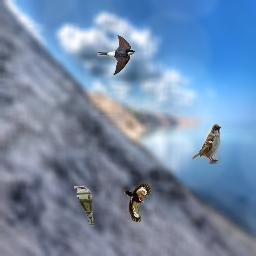Cuckoo: (74, 186, 94, 226)
Sparrow: (192, 124, 221, 164)
Swallow: (97, 35, 135, 75)
Woodpecker: (124, 182, 151, 222)
